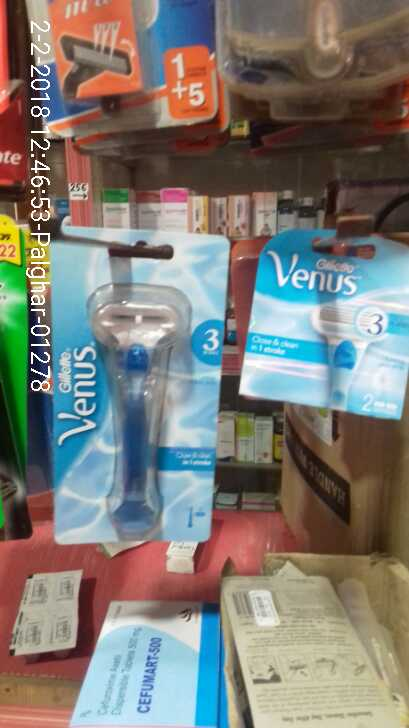venus: (47, 237, 206, 543), (241, 234, 406, 414)
